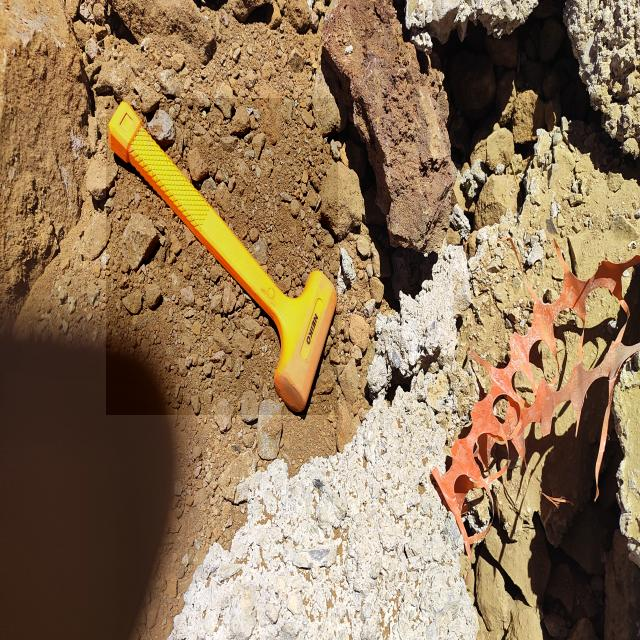Orange_hammer: (106, 98, 338, 415)
